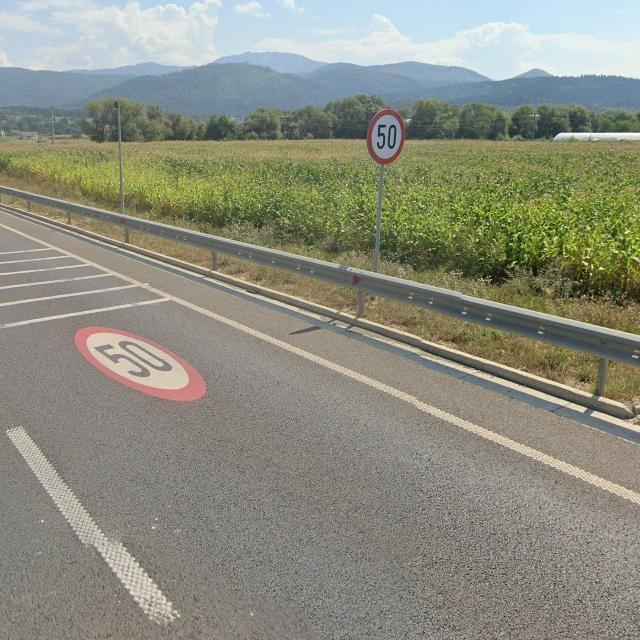forb_speed_over_50: (74, 323, 215, 406), (368, 109, 407, 167)
